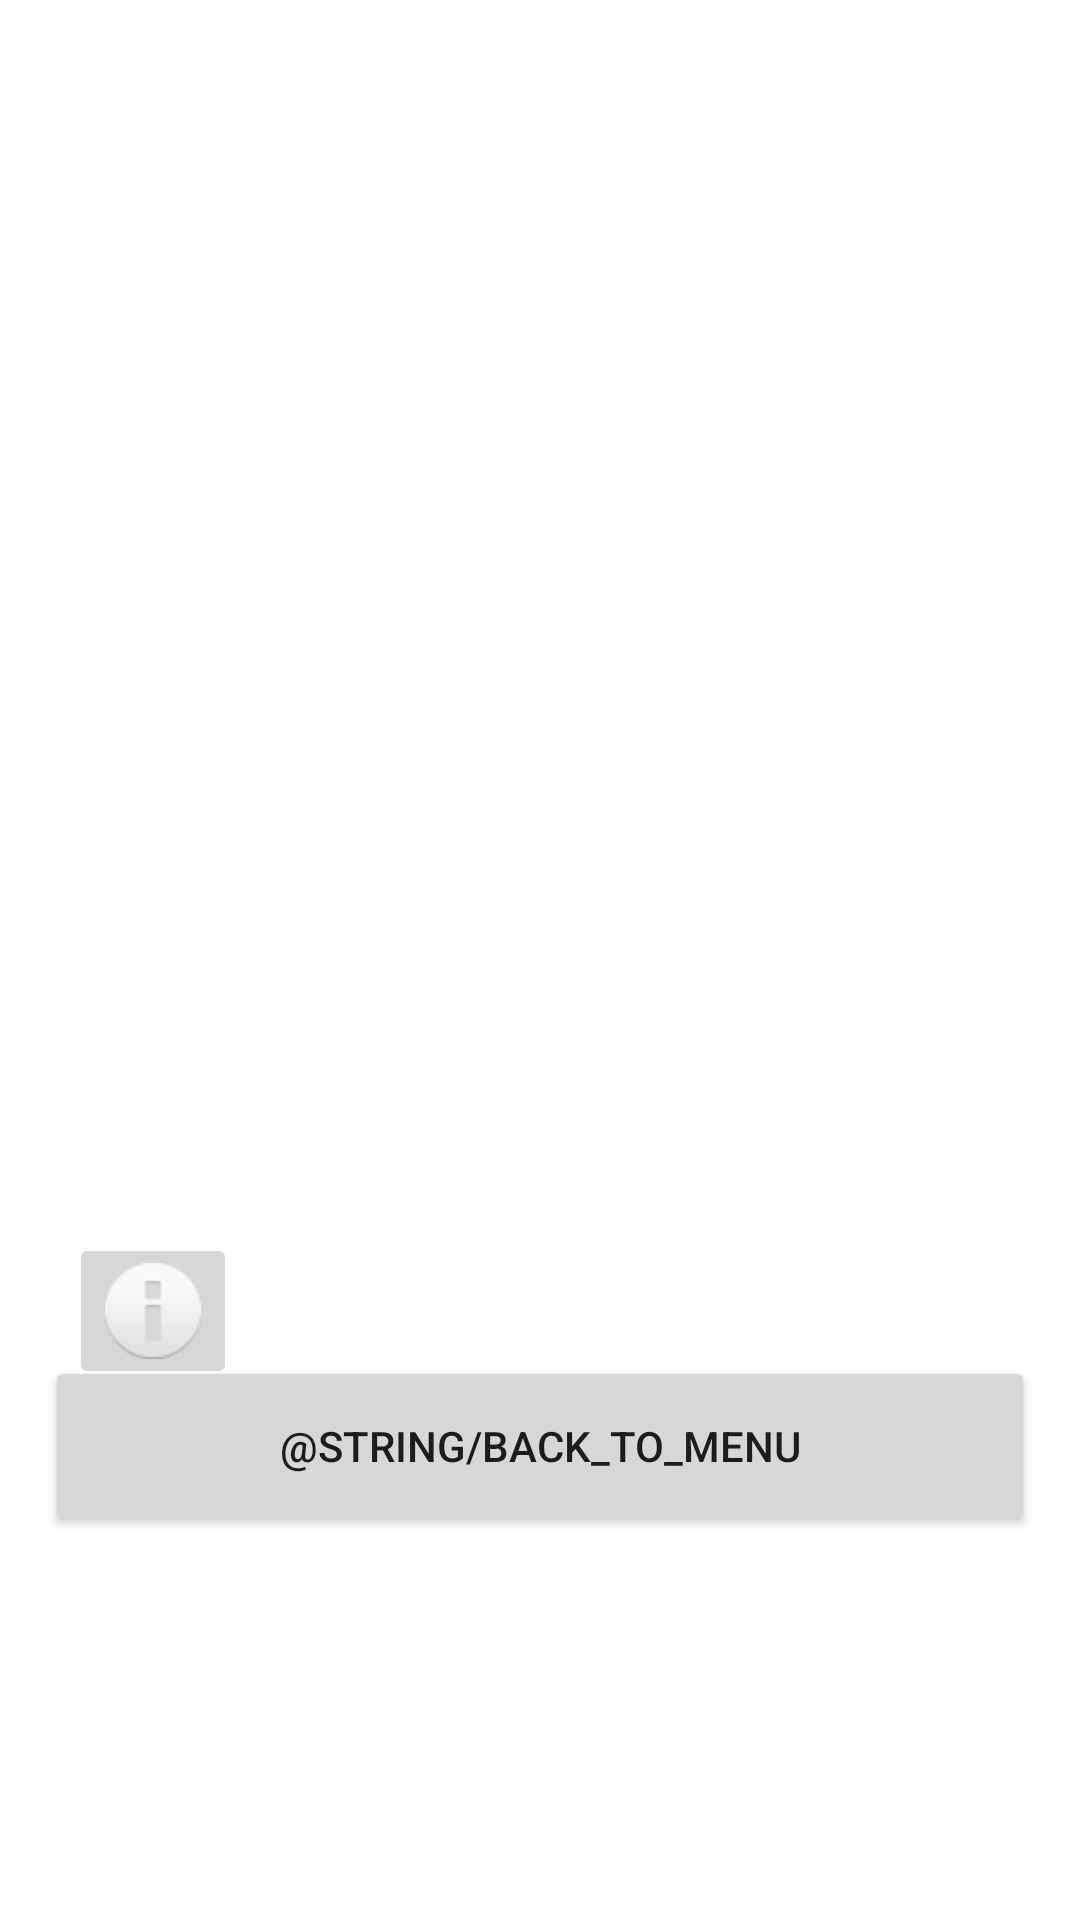

Icons on this 1080px×1920px Android screen, each with the point to tap as (x,y):
info: (153,1311)
